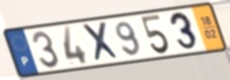3: (169, 10, 202, 53), (31, 29, 62, 69)
4: (62, 25, 91, 67)
5: (139, 13, 171, 56)
9: (114, 20, 143, 58)
X: (80, 21, 124, 64)
